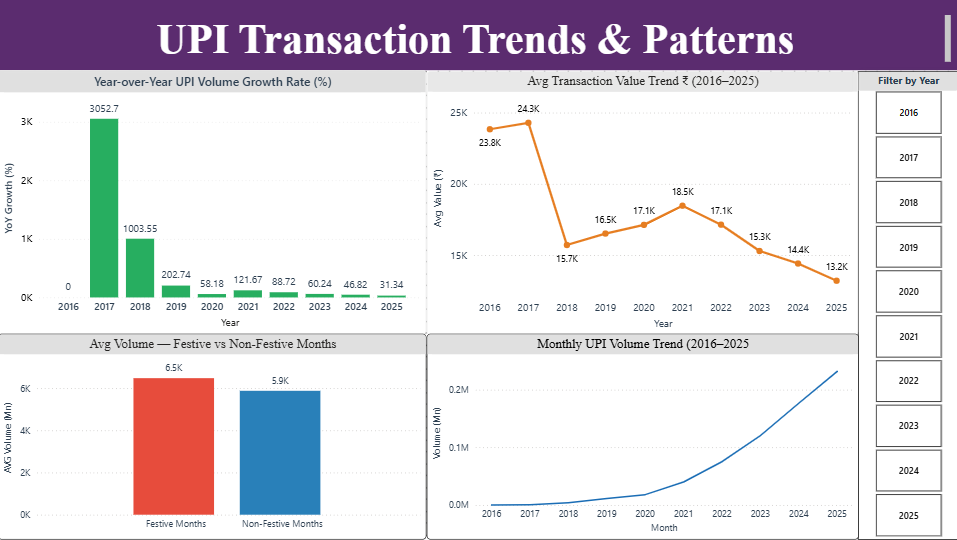

This screenshot's page, from the dashboard's own definition file:
{"tool":"powerbi","page":{"name":"Trends","canvas":[1280,720],"ordinal":1},"visuals":[{"type":"textbox","box":[0,0,1280,93.3],"z":0},{"type":"slicer","title":"Filter by Year","fields":{"Values":["upi_yearly.Year"]},"box":[1146.7,95,133.3,625],"z":1000},{"type":"clusteredColumnChart","title":"Year-over-Year UPI Volume Growth Rate (%)","fields":{"Category":["upi_yearly.Year"],"Y":["Sum(upi_yearly.Volume_YoY_Growth)"]},"box":[0,92.9,571.4,352.9],"z":2000},{"type":"lineChart","title":"Avg Transaction Value Trend ₹ (2016–2025)","fields":{"Category":["upi_yearly.Year"],"Y":["Sum(upi_yearly.Avg_Txn_Value)"]},"box":[571.7,95,575,351.7],"z":3000},{"type":"lineChart","title":"Monthly UPI Volume Trend (2016–2025","fields":{"Category":["upi_monthly.Year"],"Y":["Sum(upi_monthly.Volume_Mn)"]},"box":[571.4,445.7,575.7,274.3],"z":4000},{"type":"clusteredColumnChart","title":"Avg Volume — Festive vs Non-Festive Months","fields":{"Category":["upi_monthly.Festive_Label"],"Y":["Avg(upi_monthly.Volume_Mn)"]},"box":[0,445.7,571.4,274.3],"z":5000}]}

Visuals, with their boxes in screenshot pixels (x1, y1, x2, y2), scaled from the page's 1280x720 canvas onto the 957x540 screenshot:
textbox: box(0, 0, 956, 70)
"Filter by Year" slicer: box(857, 71, 956, 539)
"Year-over-Year UPI Volume Growth Rate (%)" clusteredColumnChart: box(0, 70, 427, 334)
"Avg Transaction Value Trend ₹ (2016–2025)" lineChart: box(427, 71, 857, 335)
"Monthly UPI Volume Trend (2016–2025" lineChart: box(427, 334, 858, 539)
"Avg Volume — Festive vs Non-Festive Months" clusteredColumnChart: box(0, 334, 427, 539)
